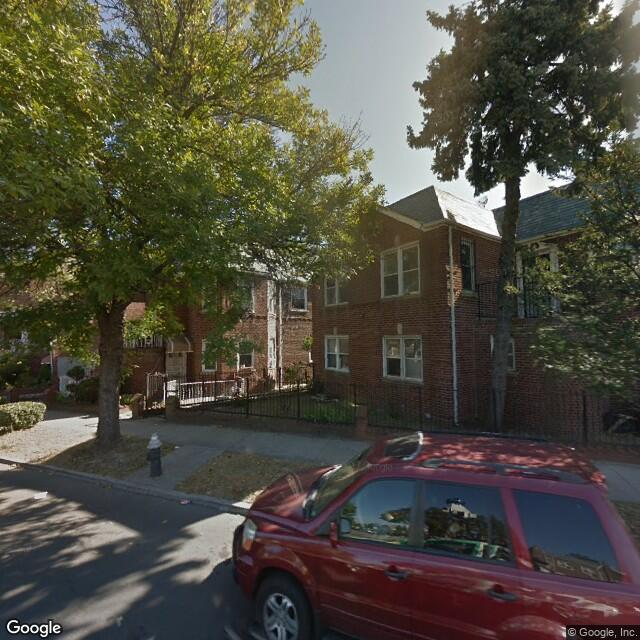litter: (32, 489, 50, 501), (5, 461, 18, 471), (178, 498, 193, 506), (116, 615, 124, 628), (172, 444, 180, 452)
